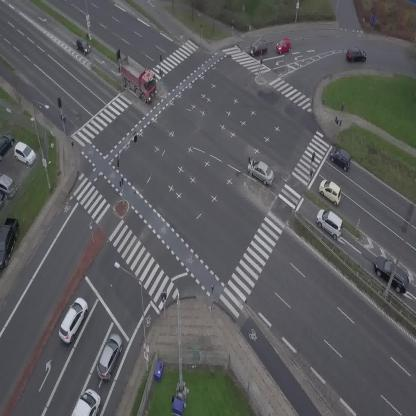car: (368, 251, 416, 296), (54, 294, 92, 346), (93, 331, 127, 382), (311, 204, 350, 241), (243, 155, 279, 187), (315, 176, 347, 207), (327, 144, 355, 171), (72, 36, 93, 57), (247, 39, 269, 57), (346, 47, 367, 63), (276, 38, 291, 54)
lorry: (111, 53, 165, 104), (72, 388, 101, 416)
